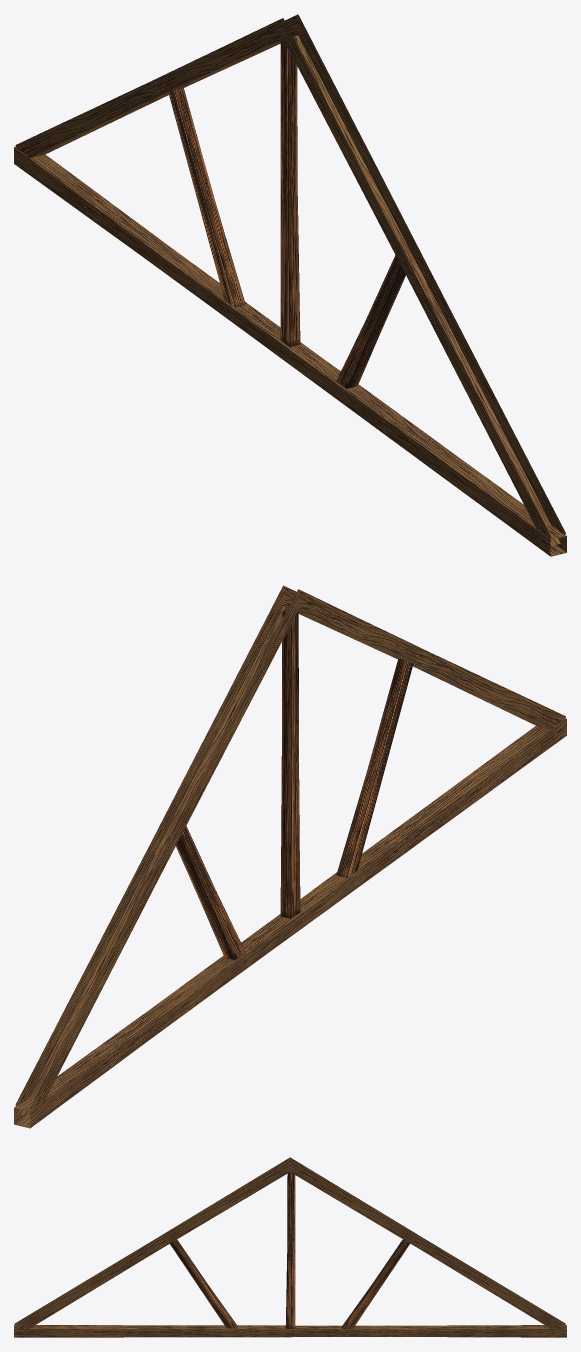
File: INST_LT_WH2_RAFTERS_01.fbx
The picture shows the model from 3 angles, top to bottom: view 1: azimuth 30°, elevation 25°; view 2: azimuth 150°, elevation 25°; view 3: azimuth 270°, elevation 25°; orthographic projection. The views are drawn at different scales.
Visible parts, largest first — view 1: INST_LT_WH2_RAFTERS_01; view 2: INST_LT_WH2_RAFTERS_01; view 3: INST_LT_WH2_RAFTERS_01.
Part boxes in pixels (x1,y1,x2,y2): INST_LT_WH2_RAFTERS_01: (14,14,566,556); INST_LT_WH2_RAFTERS_01: (14,585,566,1128); INST_LT_WH2_RAFTERS_01: (14,1157,566,1337).
Size of the model in its own units: 3936 by 79491 by 225732.
2 materials, 2 textured.
